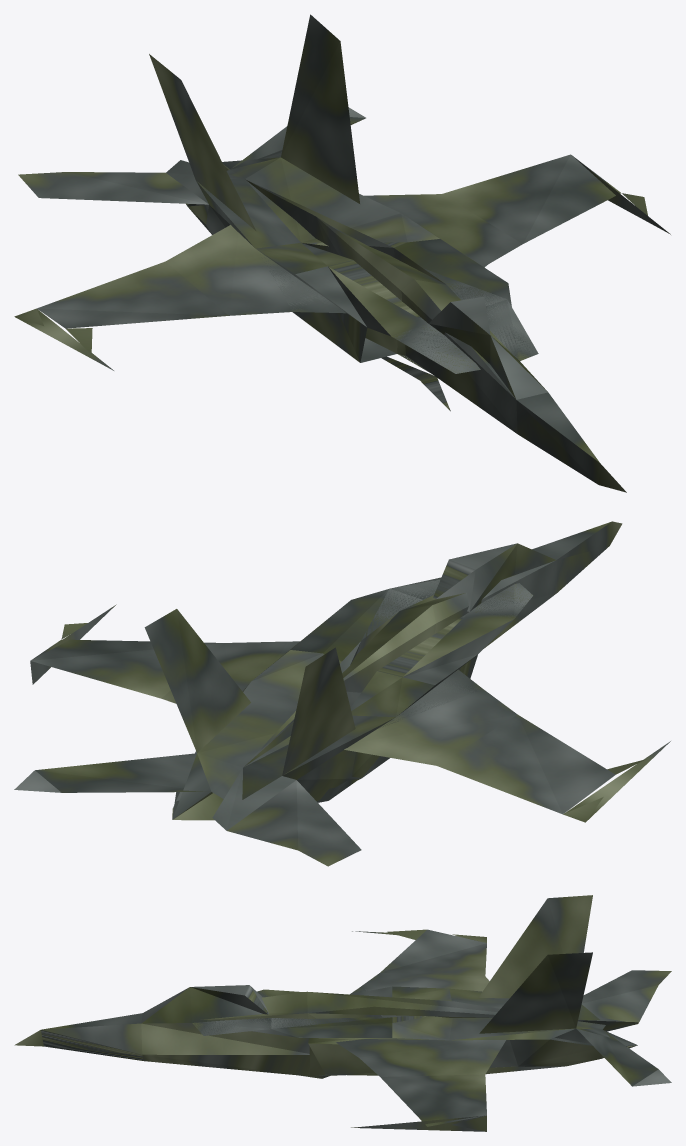
The model's file is f18hornet(low poly).obj.
3 views of the same model, one above another, from view 1: azimuth 30°, elevation 25°; view 2: azimuth 150°, elevation 25°; view 3: azimuth 270°, elevation 25° (orthographic). The views are drawn at different scales.
Visible parts, largest first — view 1: Cylinder; view 2: Cylinder; view 3: Cylinder.
Boxes of the visible parts, box(x1,y1,x2,y2) form: Cylinder: box(14, 14, 670, 492); Cylinder: box(14, 521, 670, 866); Cylinder: box(14, 895, 671, 1131).
Bounding box in the file's own units: 23.09 × 8.09 × 31.39.
